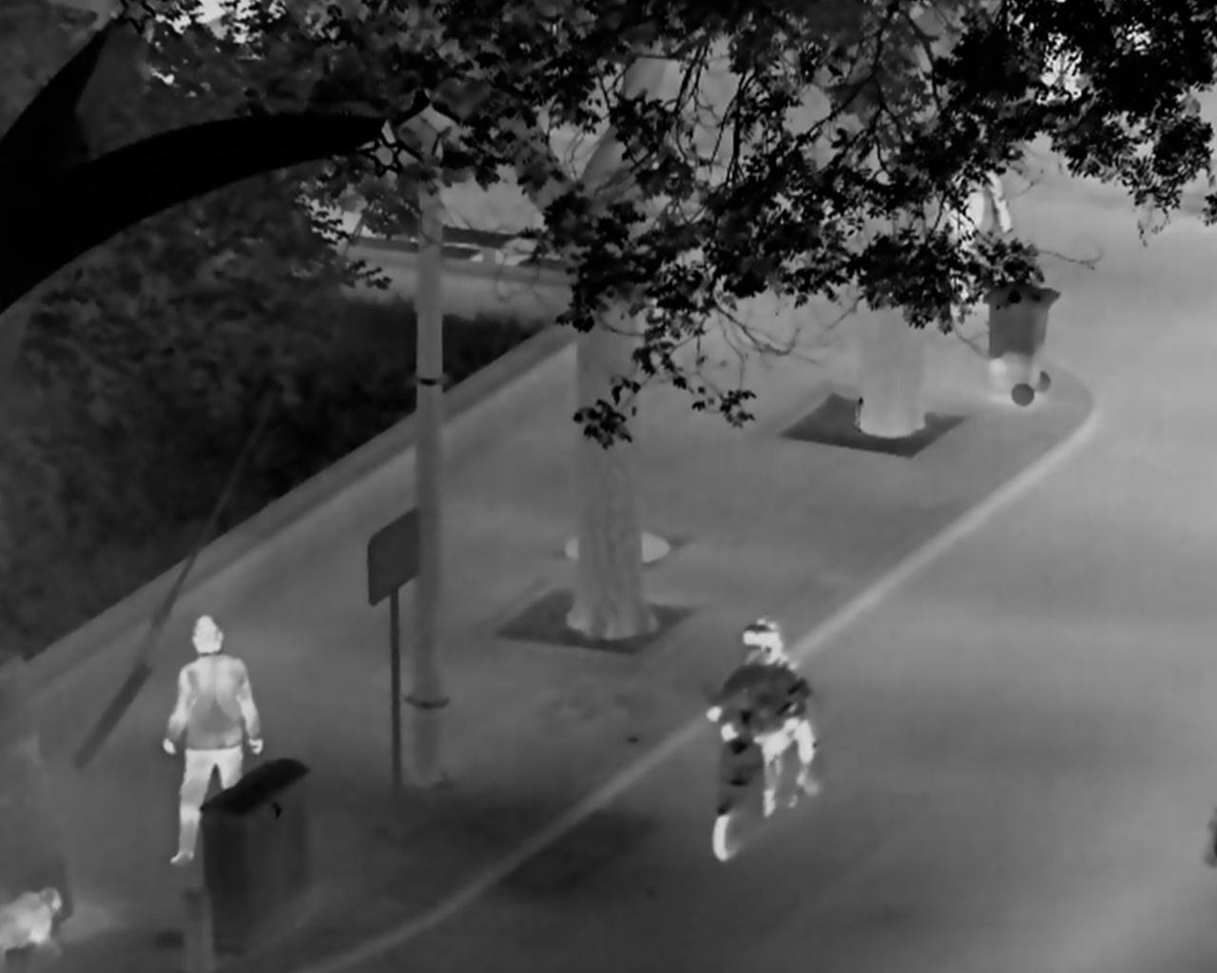person: (163, 614, 268, 868), (705, 614, 821, 818), (936, 119, 1014, 301)
